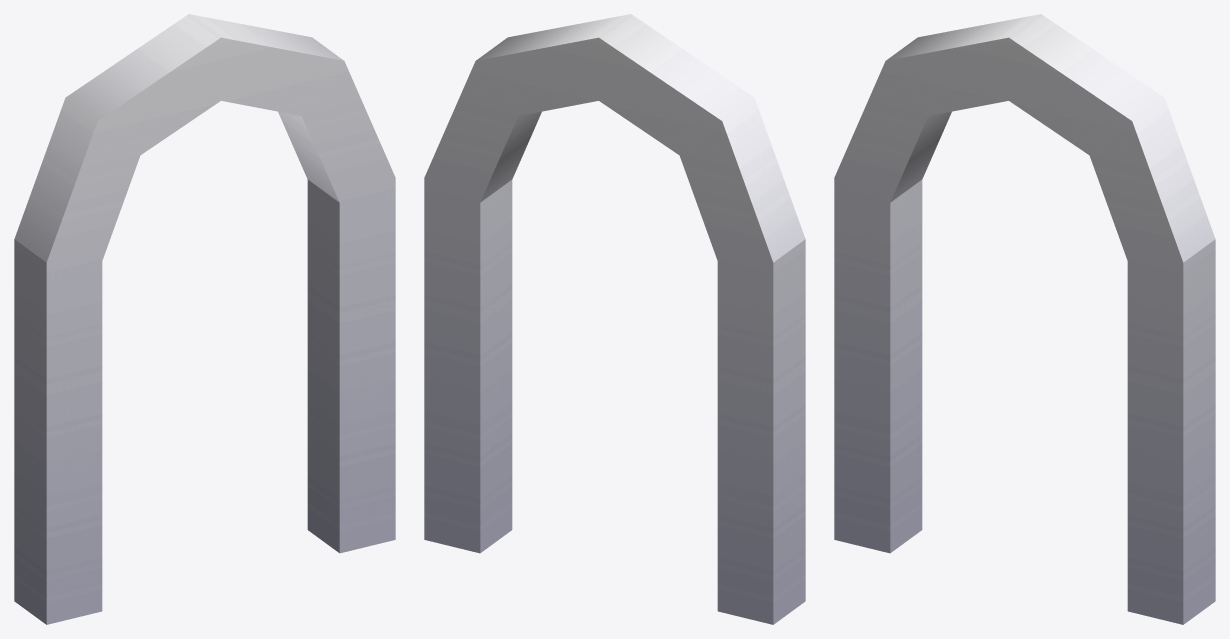
Rendered from window_white_round_top.glb.
The picture shows the model from 3 angles, left to right: view 1: azimuth 30°, elevation 25°; view 2: azimuth 150°, elevation 25°; view 3: azimuth 330°, elevation 25°; orthographic projection.
Visible parts, largest first — view 1: window-white-round-top; view 2: window-white-round-top; view 3: window-white-round-top.
Part boxes in pixels (x1,y1,x2,y2): window-white-round-top: [14, 14, 395, 624]; window-white-round-top: [424, 14, 805, 624]; window-white-round-top: [834, 14, 1215, 624].
Bounding box in the file's own units: 0.3125 × 0.4662 × 0.05.
Materials: 1 (1 with a texture image).
